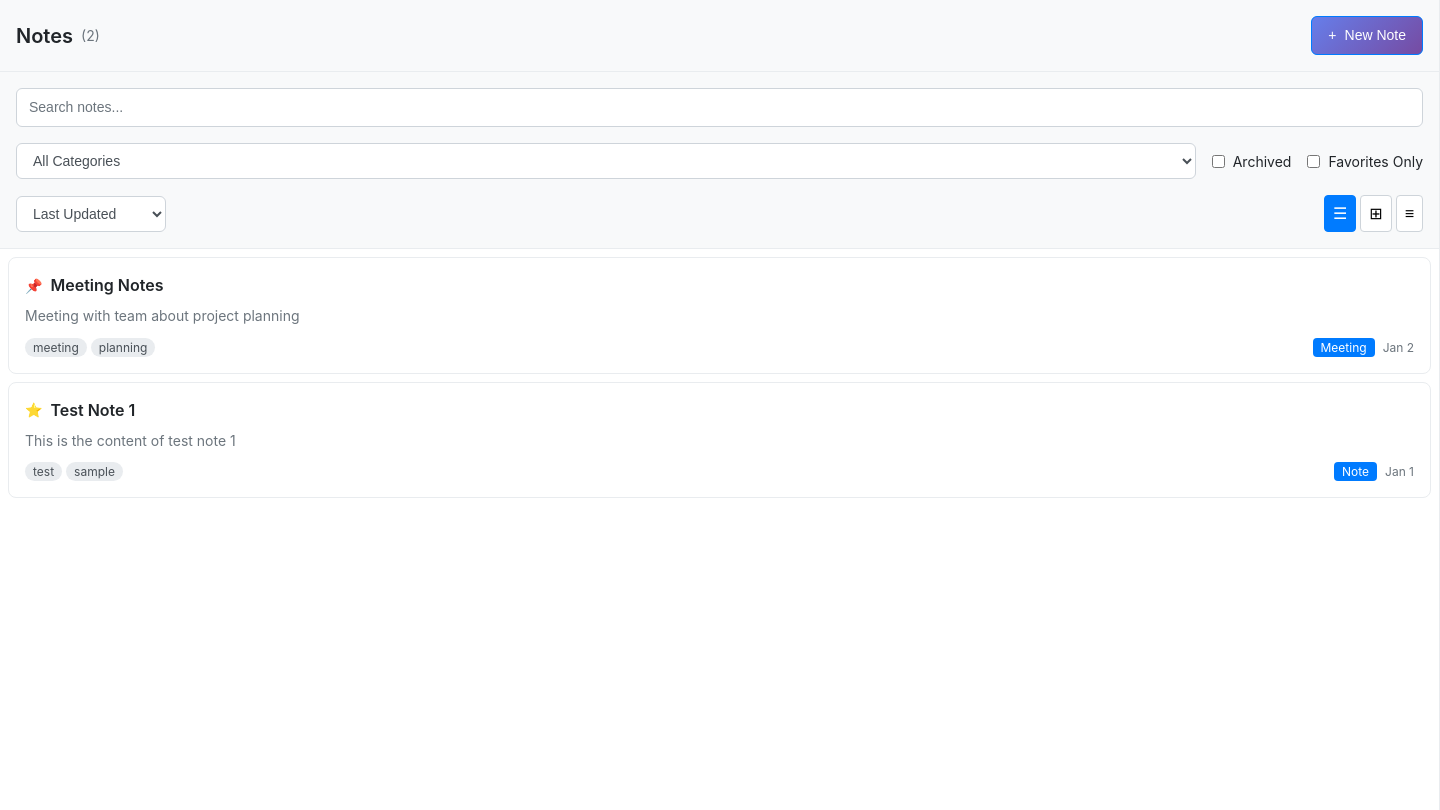
Test: NotesList › shows only favorites when favorites filter is enabled
Click the checkbox labelled "Favorites Only": [1314, 161] box [1307,154,1320,168]
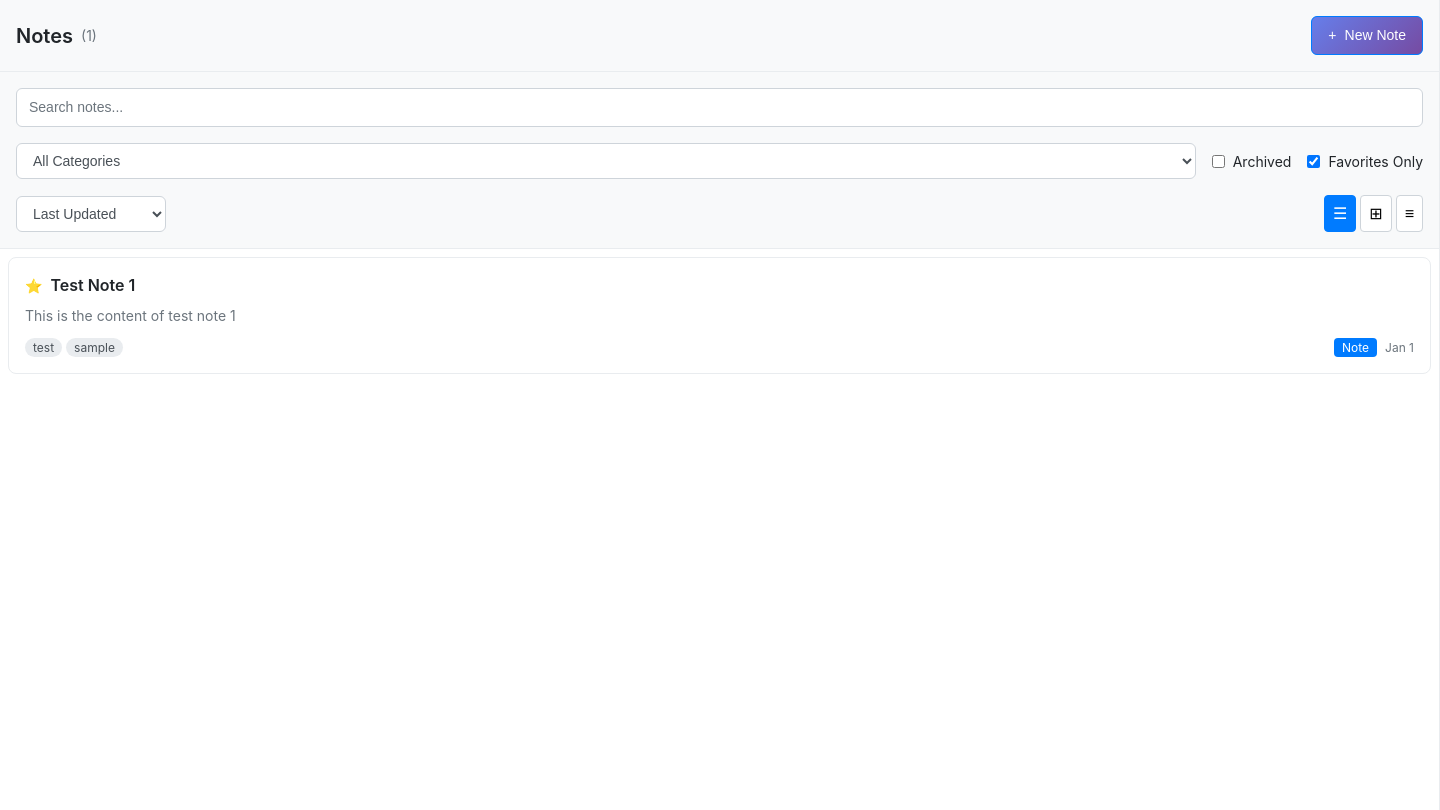
Expected: the heading "Test Note 1" is shown, [50,274,135,296]
Result: the heading "Meeting Notes" is gone
